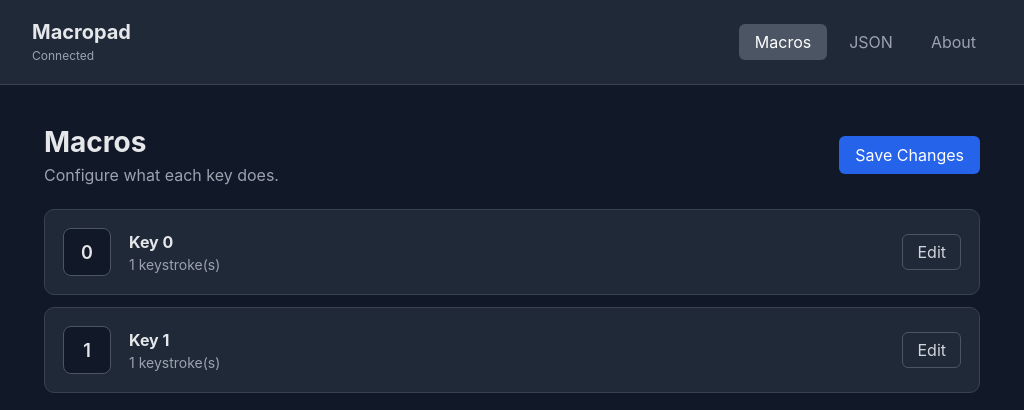
Test case: App › navigates to the About page
Expected: the heading "Macros" is shown, x1=44 y1=125 x2=146 y2=159
Click the button "About". click: (953, 42)
box: x1=915 y1=24 x2=992 y2=60
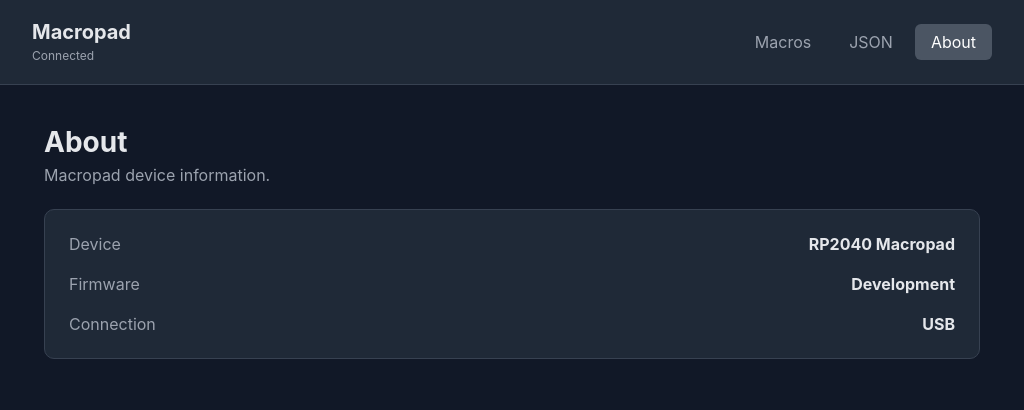
Expected: the heading "About" is shown, x1=44 y1=125 x2=127 y2=159
